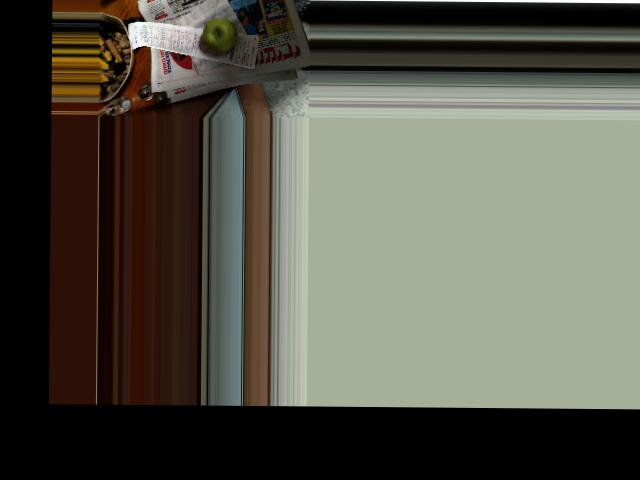apple: (200, 15, 243, 54)
